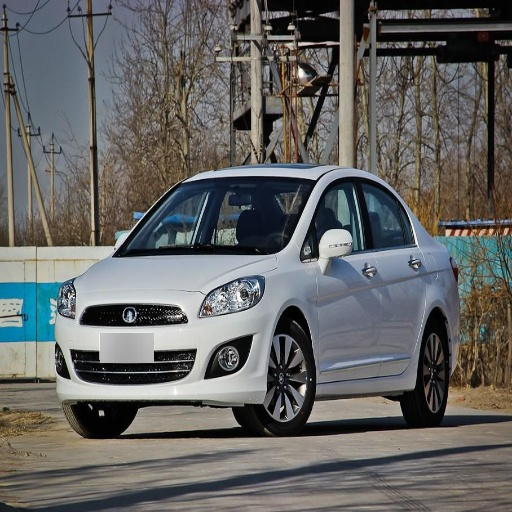front_bumper: (57, 277, 277, 404)
front_glass: (115, 177, 315, 255)
front_left_door: (308, 175, 381, 377)
